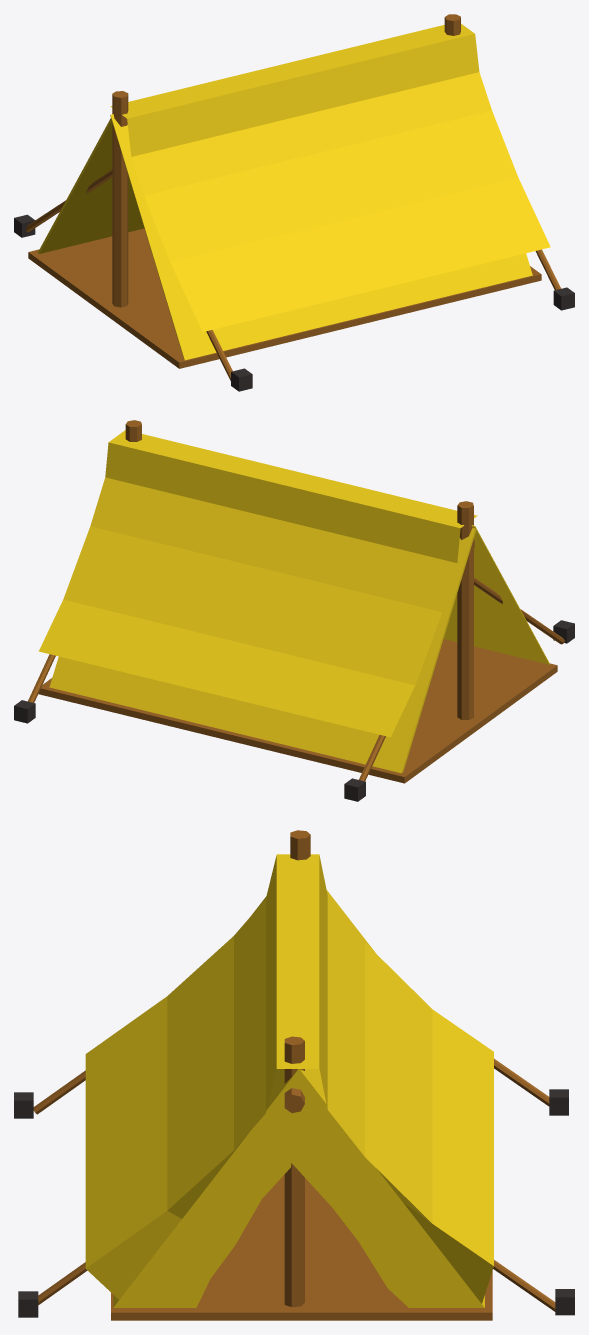
The model's file is SM_Camp.glb.
3 views of the same model, one above another, from view 1: azimuth 30°, elevation 25°; view 2: azimuth 150°, elevation 25°; view 3: azimuth 270°, elevation 25° (orthographic). The views are drawn at different scales.
Parts seen in each view (by area): view 1: SM_Camp; view 2: SM_Camp; view 3: SM_Camp.
Boxes of the visible parts, x1,y1,x2,y2 form: SM_Camp: (14,14,574,391); SM_Camp: (14,420,574,801); SM_Camp: (14,830,574,1320).
Bounding box in the file's own units: 605 × 343 × 637.
